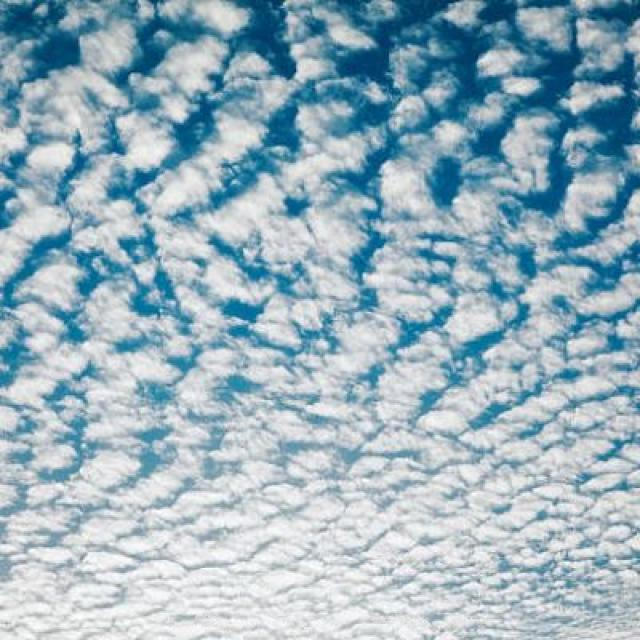Cc: (1, 28, 640, 639)
